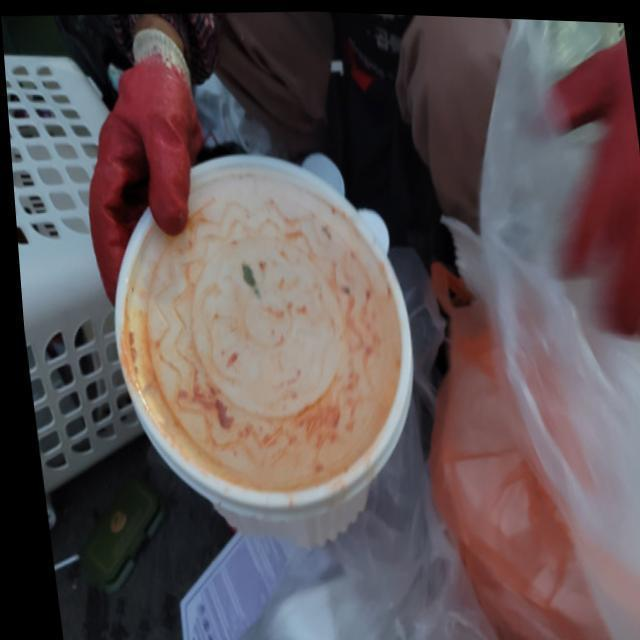disposable: (77, 143, 433, 565)
